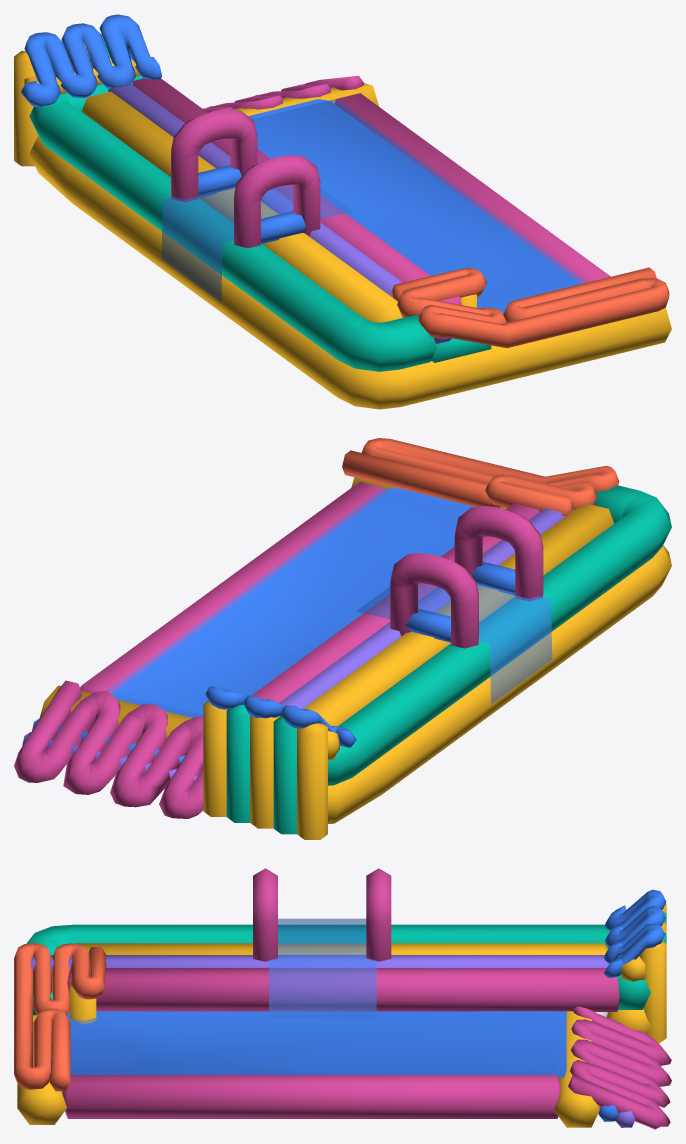
File: course03.glb
3 views of the same model, one above another, from view 1: azimuth 30°, elevation 25°; view 2: azimuth 150°, elevation 25°; view 3: azimuth 270°, elevation 25° (orthographic). The views are drawn at different scales.
Parts seen in each view (by area): view 1: Cylinder.536, Cylinder.541, Cylinder.535, Plane.017, ramp.007, ramp.009, archCurve.032, Cylinder.544, archCurve.033, Cylinder.539, Cylinder.546, ramp.008 (+3 smaller); view 2: Cylinder.541, Cylinder.536, Plane.017, Cylinder.535, ramp.008, Cylinder.546, ramp.007, archCurve.033, archCurve.032, Cylinder.544, Cylinder.539, ramp.009 (+2 smaller); view 3: Cylinder.541, Plane.017, Cylinder.544, Cylinder.536, Cylinder.535, ramp.007, ramp.008, Cylinder.539, ramp.009, archCurve.033, archCurve.032, Cylinder.546 (+2 smaller).
Boxes of the visible parts, left/top/right/bottom form: Cylinder.536: left=29, top=75, right=436, bottom=371; Cylinder.541: left=253, top=93, right=610, bottom=313; Cylinder.535: left=64, top=83, right=671, bottom=409; Plane.017: left=248, top=99, right=580, bottom=313; ramp.007: left=391, top=267, right=669, bottom=347; ramp.009: left=21, top=14, right=161, bottom=107; archCurve.032: left=234, top=155, right=320, bottom=248; Cylinder.544: left=132, top=78, right=461, bottom=304; archCurve.033: left=171, top=109, right=257, bottom=202; Cylinder.539: left=108, top=84, right=451, bottom=343; Cylinder.546: left=14, top=34, right=110, bottom=166; ramp.008: left=203, top=75, right=364, bottom=112; Cylinder.541: left=80, top=481, right=469, bottom=714; Cylinder.536: left=302, top=485, right=671, bottom=823; Plane.017: left=111, top=487, right=474, bottom=717; Cylinder.535: left=39, top=477, right=671, bottom=794; ramp.008: left=14, top=680, right=203, bottom=818; Cylinder.546: left=203, top=701, right=327, bottom=839; ramp.007: left=342, top=438, right=619, bottom=516; archCurve.033: left=390, top=553, right=478, bottom=648; archCurve.032: left=454, top=506, right=543, bottom=601; Cylinder.544: left=251, top=503, right=539, bottom=702; Cylinder.539: left=279, top=493, right=595, bottom=708; ramp.009: left=205, top=686, right=356, bottom=747; Cylinder.541: left=62, top=1011, right=560, bottom=1118; Plane.017: left=66, top=1011, right=566, bottom=1077; Cylinder.544: left=67, top=968, right=619, bottom=1011; Cylinder.536: left=26, top=924, right=650, bottom=1033; Cylinder.535: left=17, top=918, right=599, bottom=1127; ramp.007: left=14, top=943, right=106, bottom=1091; ramp.008: left=568, top=1006, right=671, bottom=1129; Cylinder.539: left=30, top=955, right=609, bottom=971; ramp.009: left=603, top=889, right=666, bottom=977; archCurve.033: left=366, top=868, right=391, bottom=961; archCurve.032: left=253, top=868, right=277, bottom=961; Cylinder.546: left=639, top=903, right=666, bottom=1043.
Size of what is drawn, in the model's own units: 16.89 by 7.95 by 32.52.
Materials: 2 (2 with a texture image).
